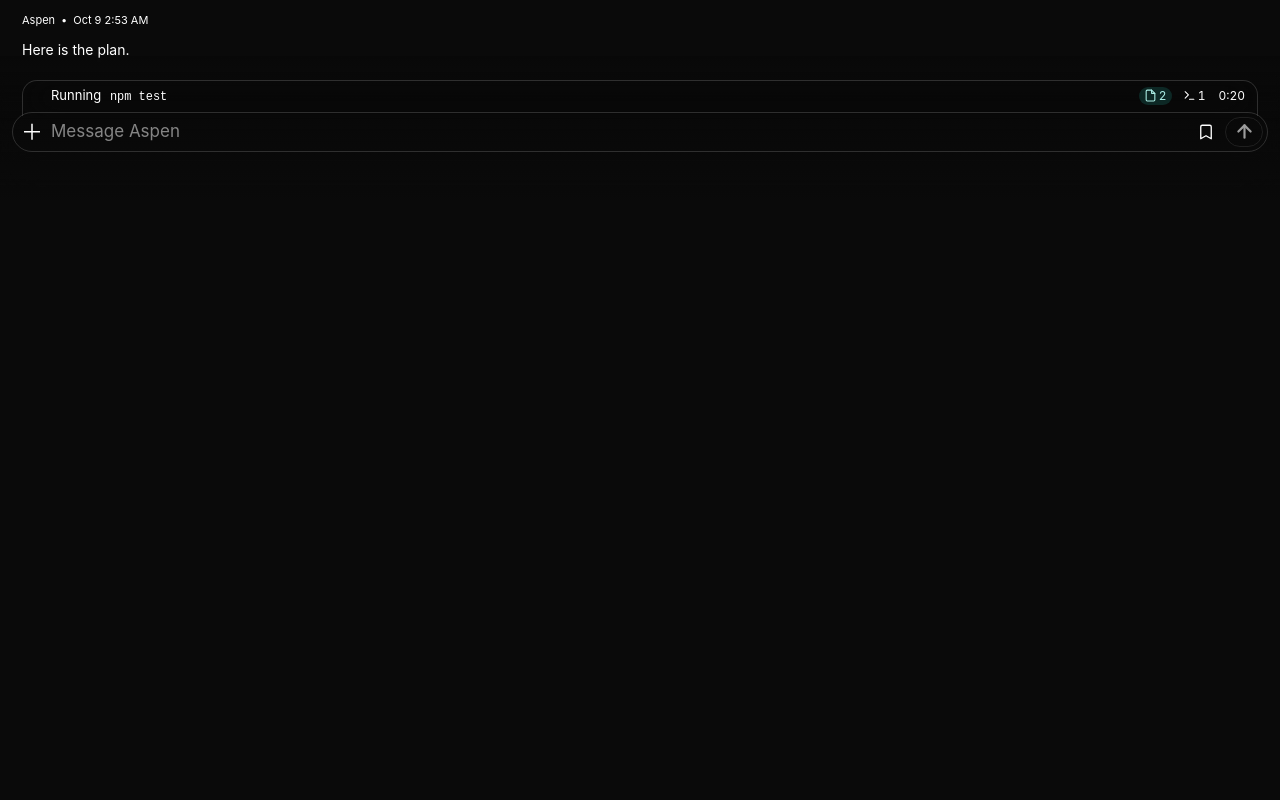
Test: the stash button and sheet › a tap opens the sheet (newest first); the working drawer slides away until it closes
// Never takes focus (the keyboard is put away on purpose, not by a blur).
Press the mouse on the button with test id "stash-button" at (1206, 132), box left=1191, top=116, right=1221, bottom=146
Click the button with test id "stash-button" at (1206, 132), box left=1191, top=116, right=1221, bottom=146
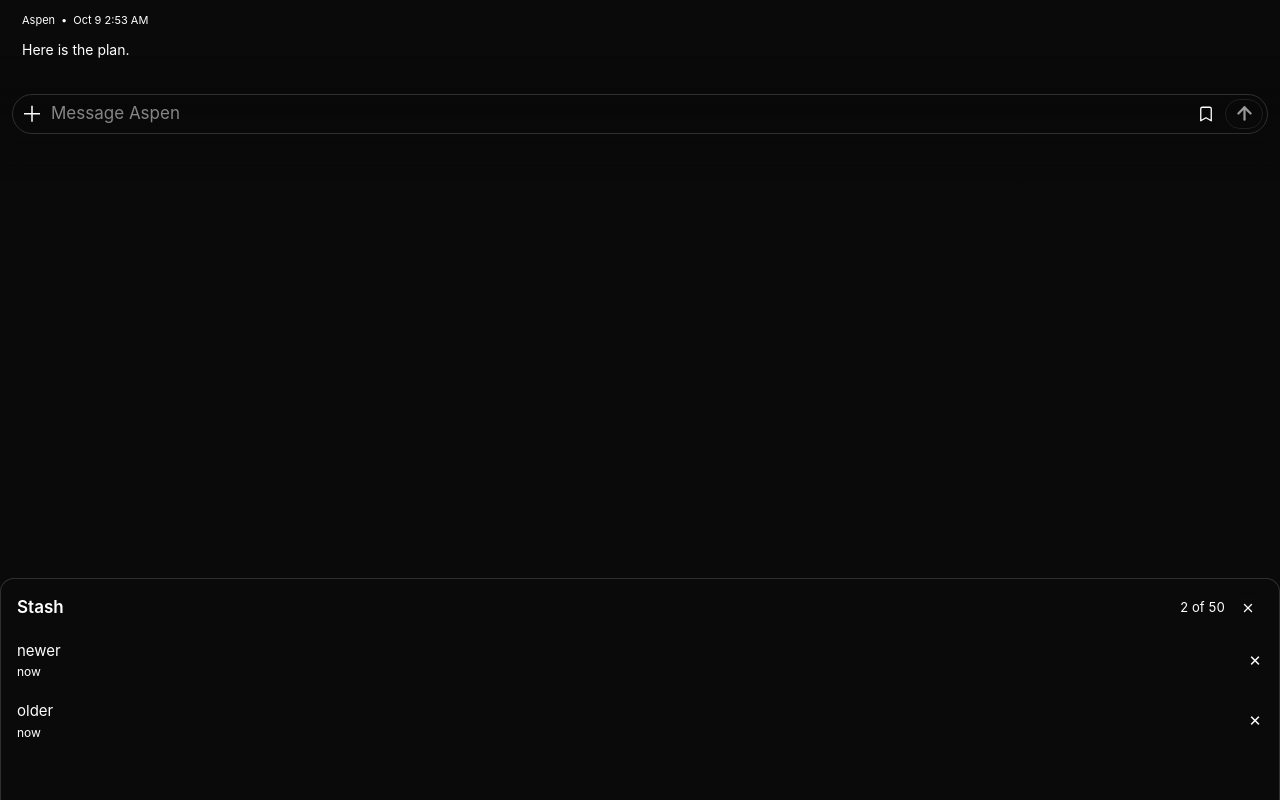
Click the button with test id "stash-sheet-close" at (1248, 608), box left=1233, top=593, right=1263, bottom=623
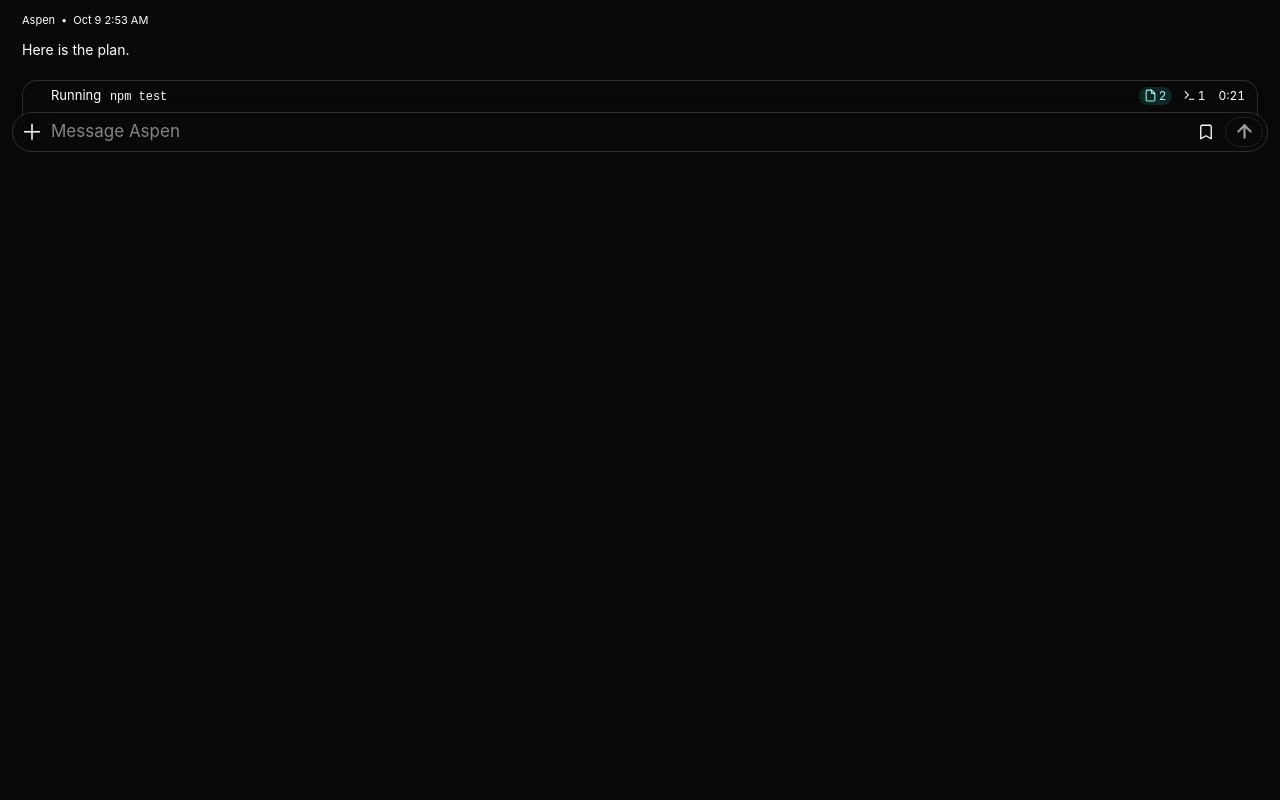
Check: the element with test id "stash-sheet" is gone
